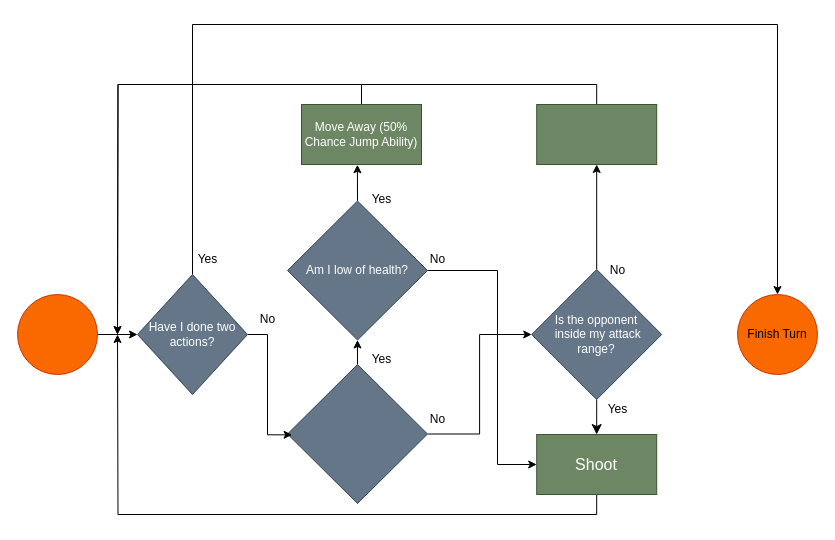
Image size: 835x540. Some labels were removed from this diagram. The shapes that lost their labels are listed below. From the top down, each one's centre as x and y in pixels, then its label:
point 596,134: Get Closer (50% Chance Jump Ability)
point 57,334: Turn Start
point 357,434: Is the opponent too close?
